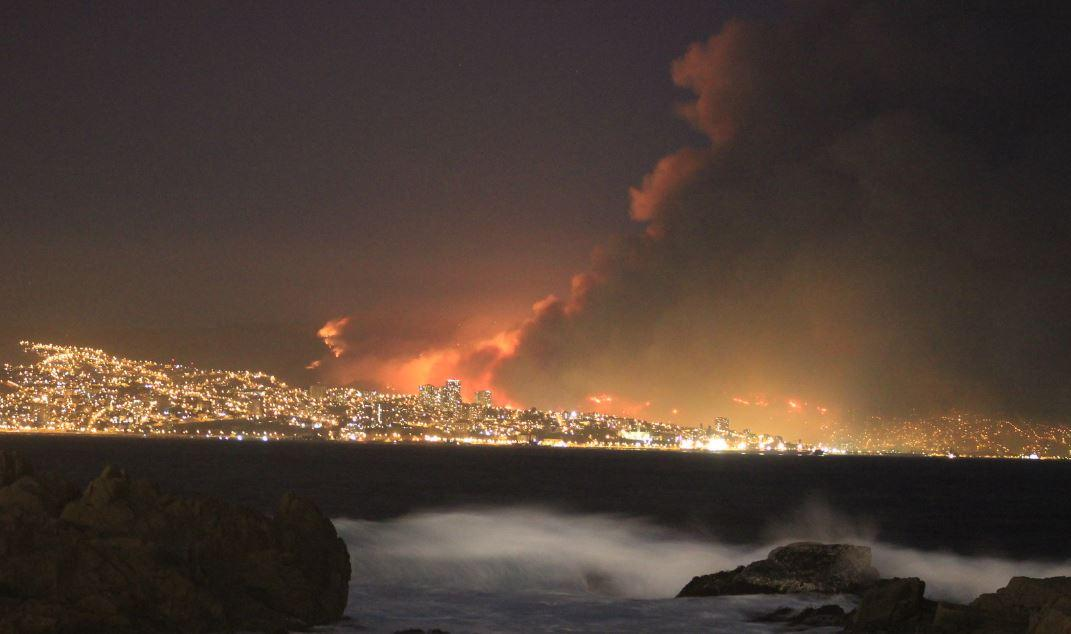Fire: (306, 322, 345, 368), (784, 397, 835, 416), (734, 394, 771, 412), (591, 394, 616, 404), (671, 407, 681, 416), (645, 399, 652, 406)
